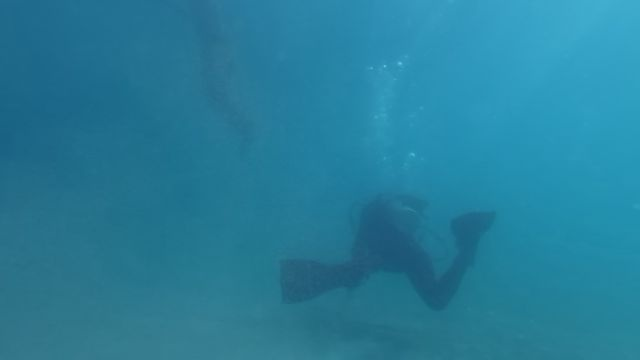Diver: (269, 190, 510, 321)
